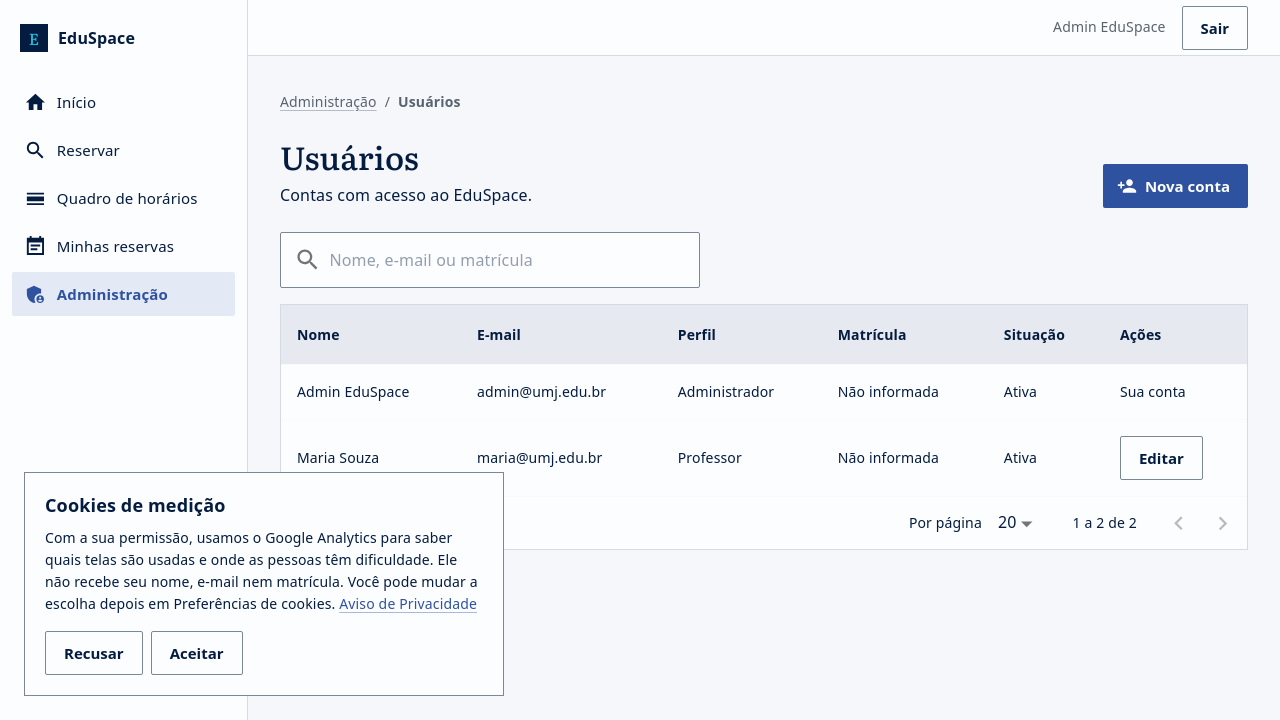
admin users › shows the API refusal inside the dialog
The width and height of the screenshot is (1280, 720).
Step 1. Click the button with aria-label "Editar Maria Souza" → (1161, 458), box [1120,436,1203,480]
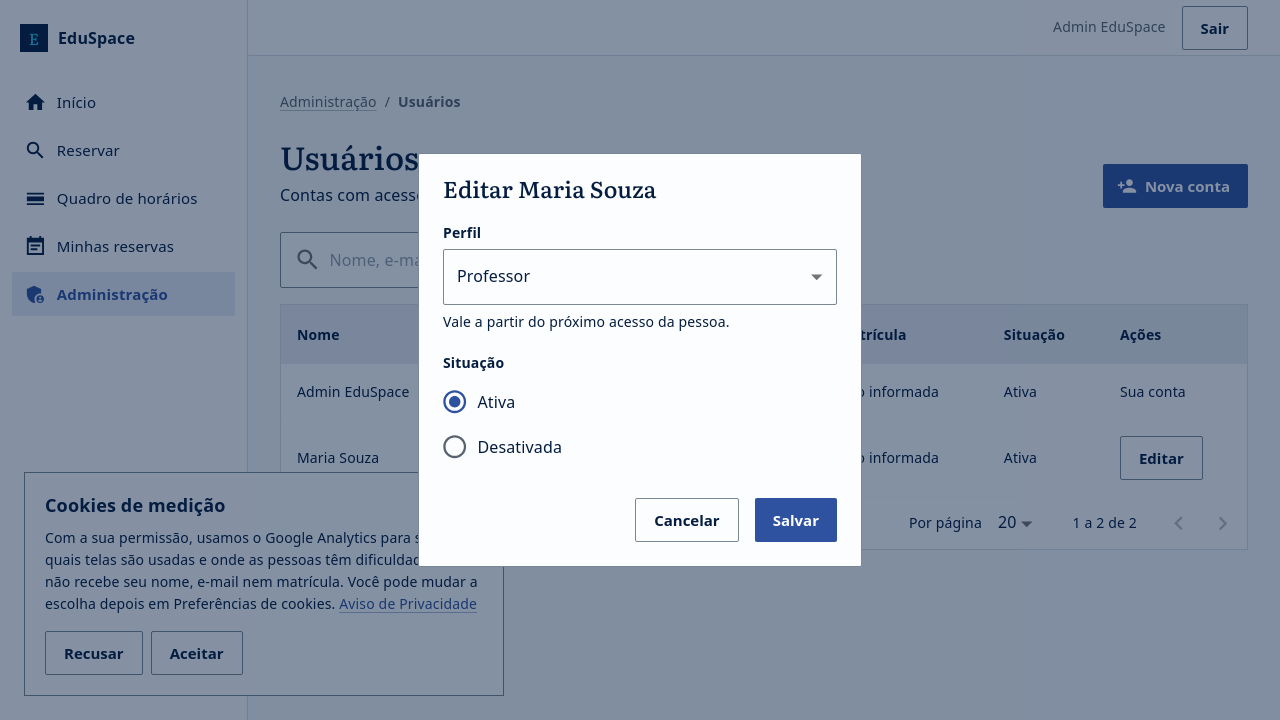
Step 2. Click the dropdown named "Perfil" → (494, 276), box [457,265,530,287]
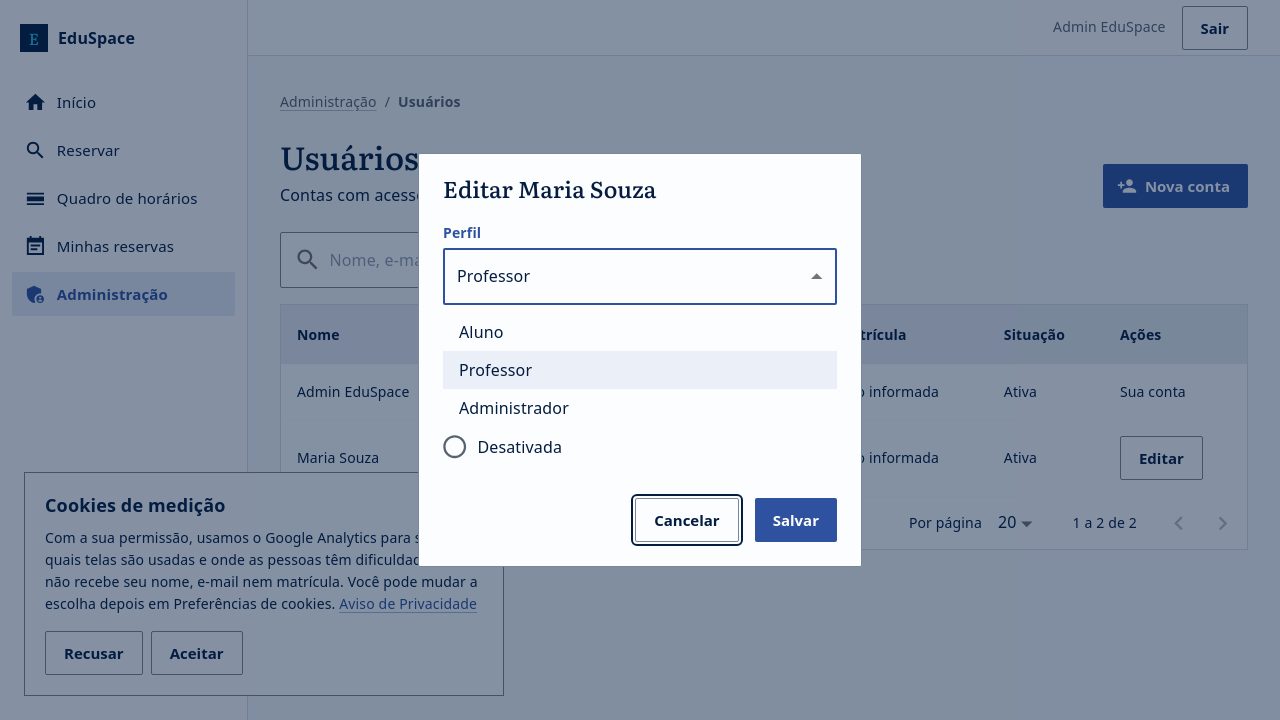
Step 3. Click the option "Aluno" → (481, 332), box [459,321,504,343]
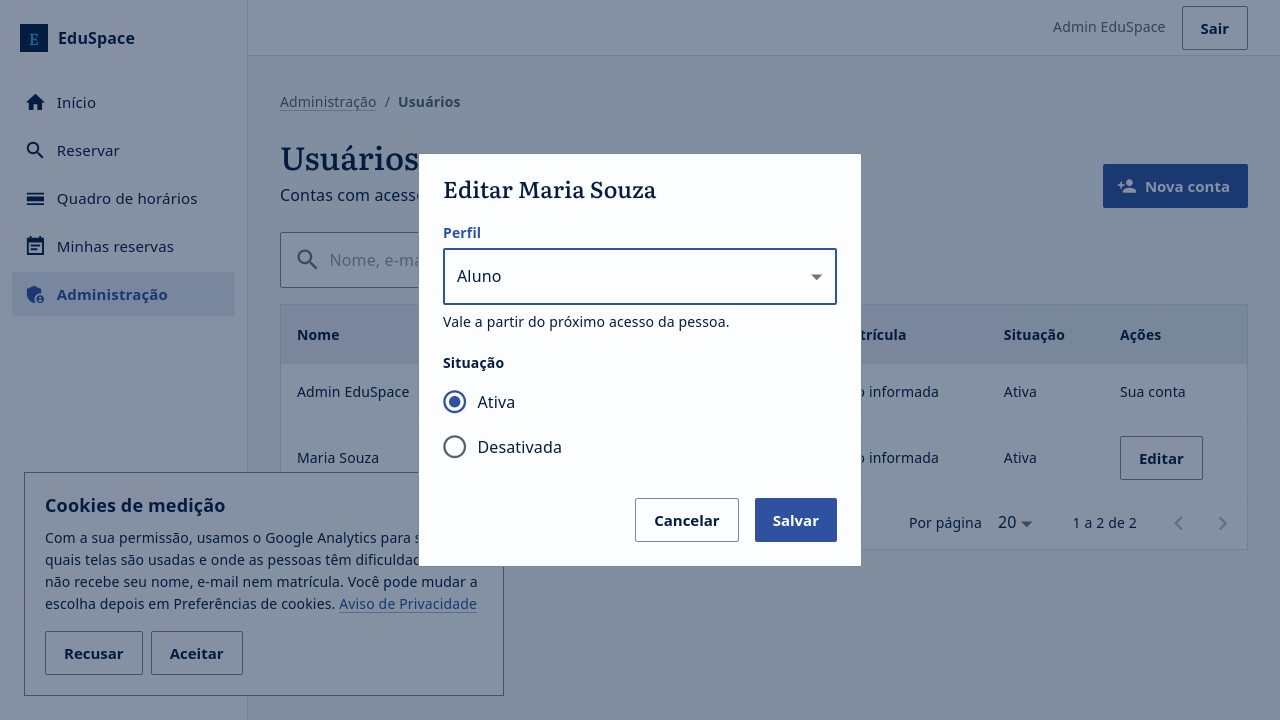
Step 4. Click the button "Salvar" → (796, 520), box [755,498,837,542]
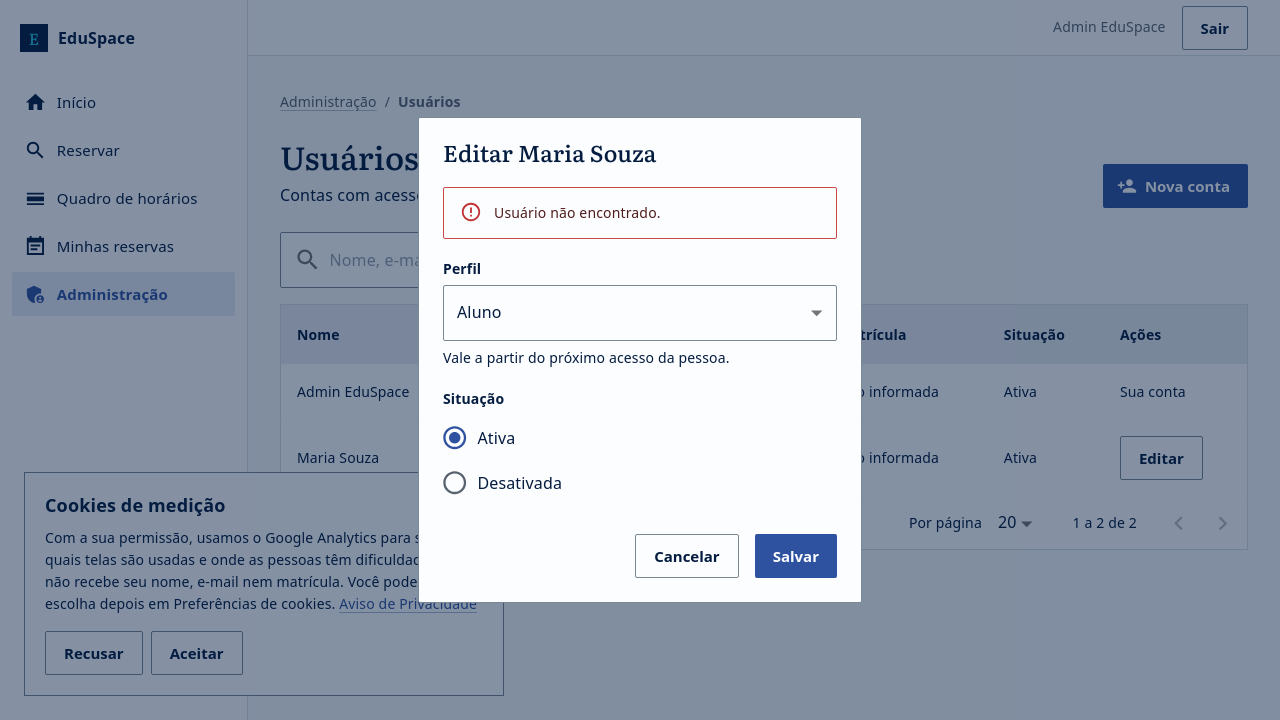
expect the text "Usuário não encontrado." is shown: met, box [494,203,661,222]
